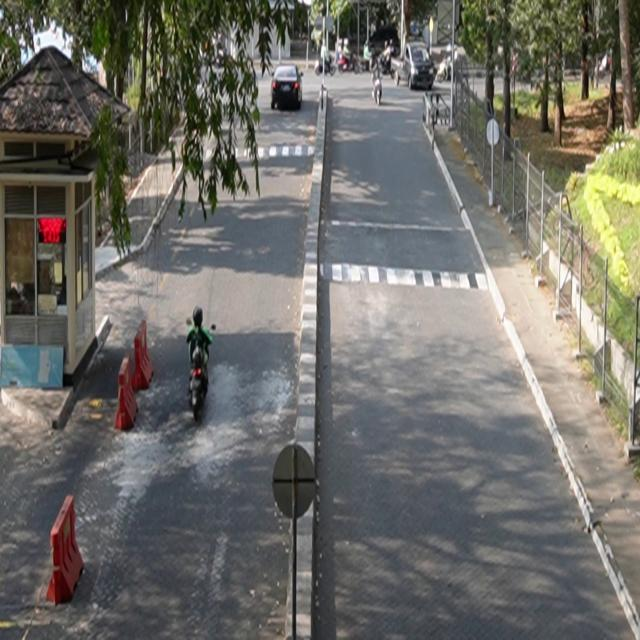car: (271, 65, 304, 111)
